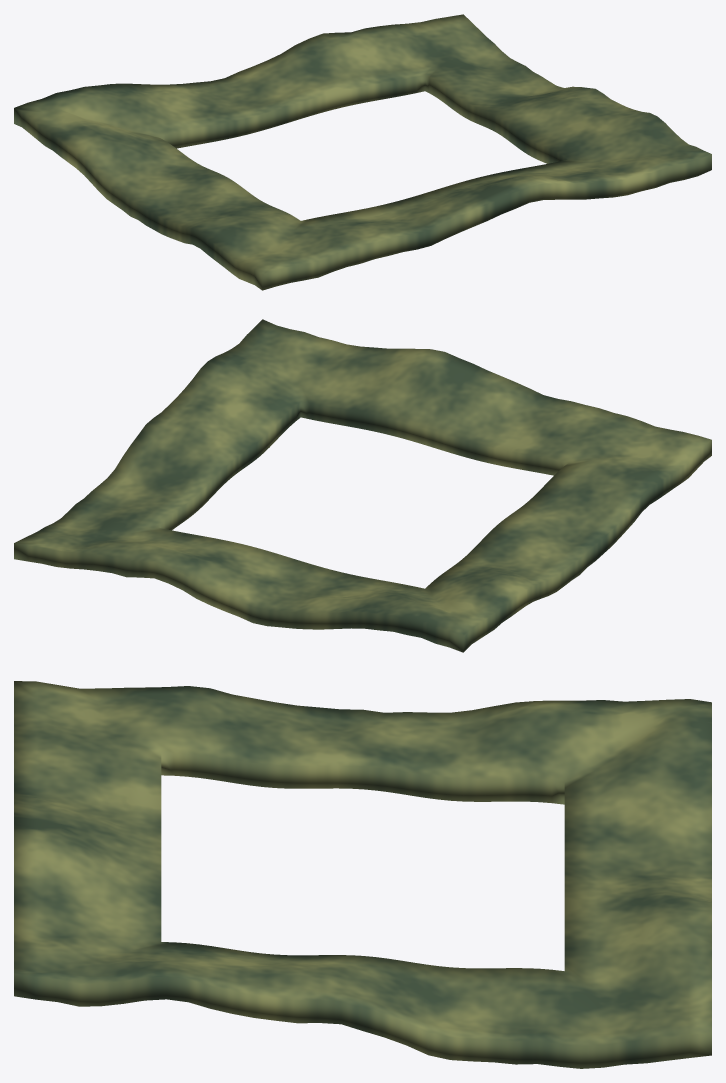
File: wooded-horizon.glb
The picture shows the model from 3 angles, top to bottom: view 1: azimuth 30°, elevation 25°; view 2: azimuth 150°, elevation 25°; view 3: azimuth 270°, elevation 25°; orthographic projection. The views are drawn at different scales.
Parts seen in each view (by area): view 1: Rolling farmland; view 2: Rolling farmland; view 3: Rolling farmland.
Part boxes in pixels (x1,y1,x2,y2): Rolling farmland: (14, 14, 711, 290); Rolling farmland: (14, 319, 711, 652); Rolling farmland: (14, 681, 711, 1068).
Bounding box in the file's own units: 94 × 15.89 × 90.
1 material, 1 textured.
